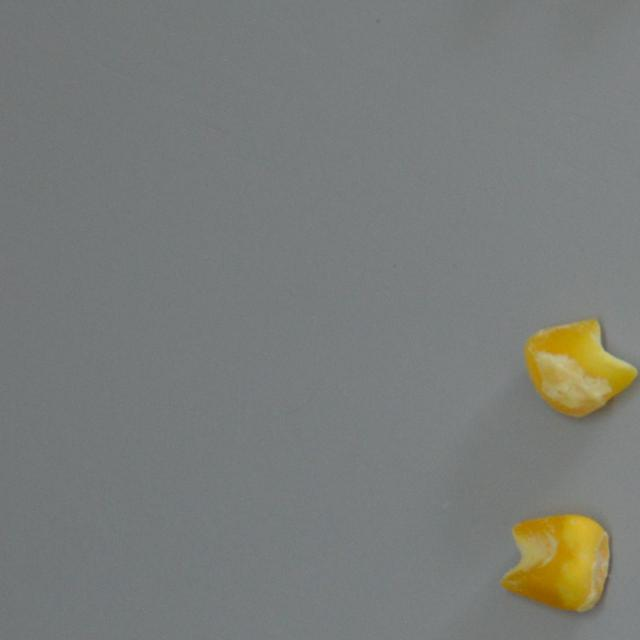pelicula: (522, 315, 639, 420), (500, 514, 610, 612)
